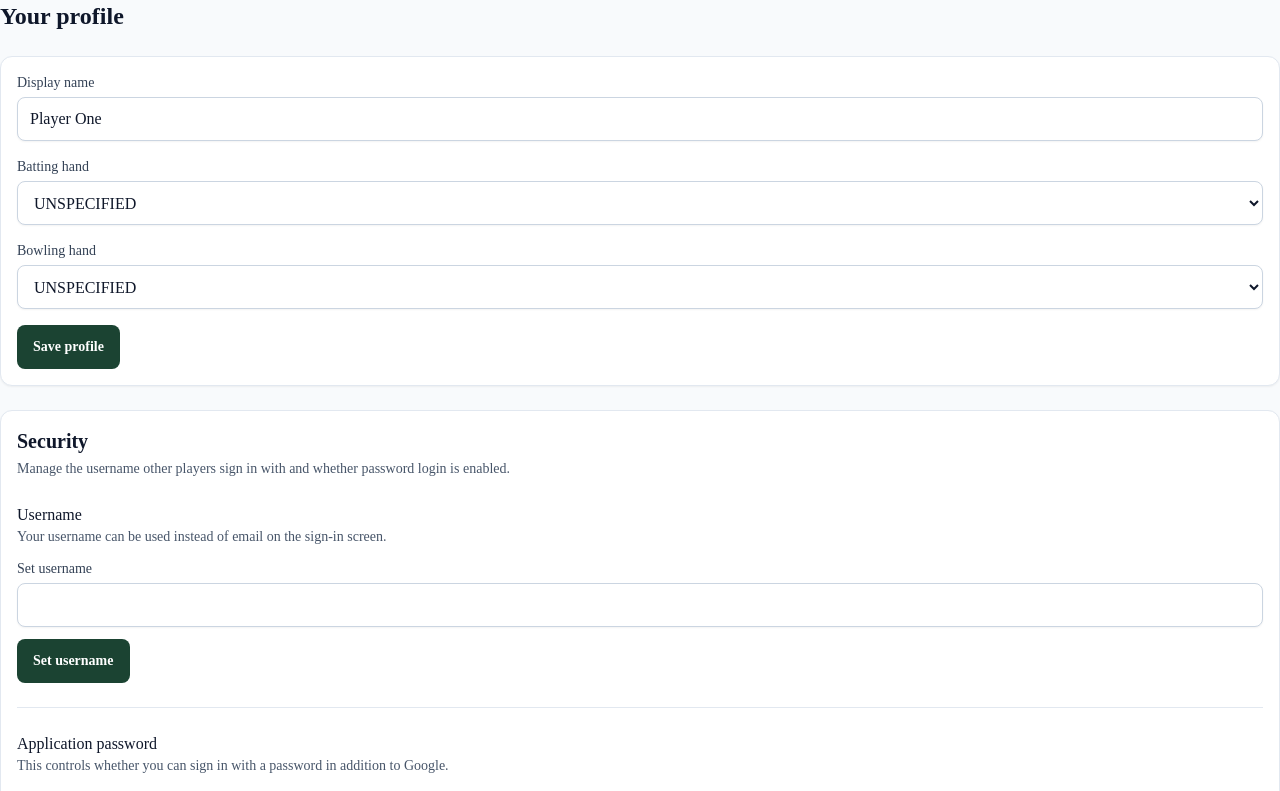
AppProfilePage › shows a server error when the profile update fails
Check: the field showing "Player One" is shown, box [17,97,1263,141]
Click the button "Save profile".
click(68, 347)  # box [17,325,120,369]
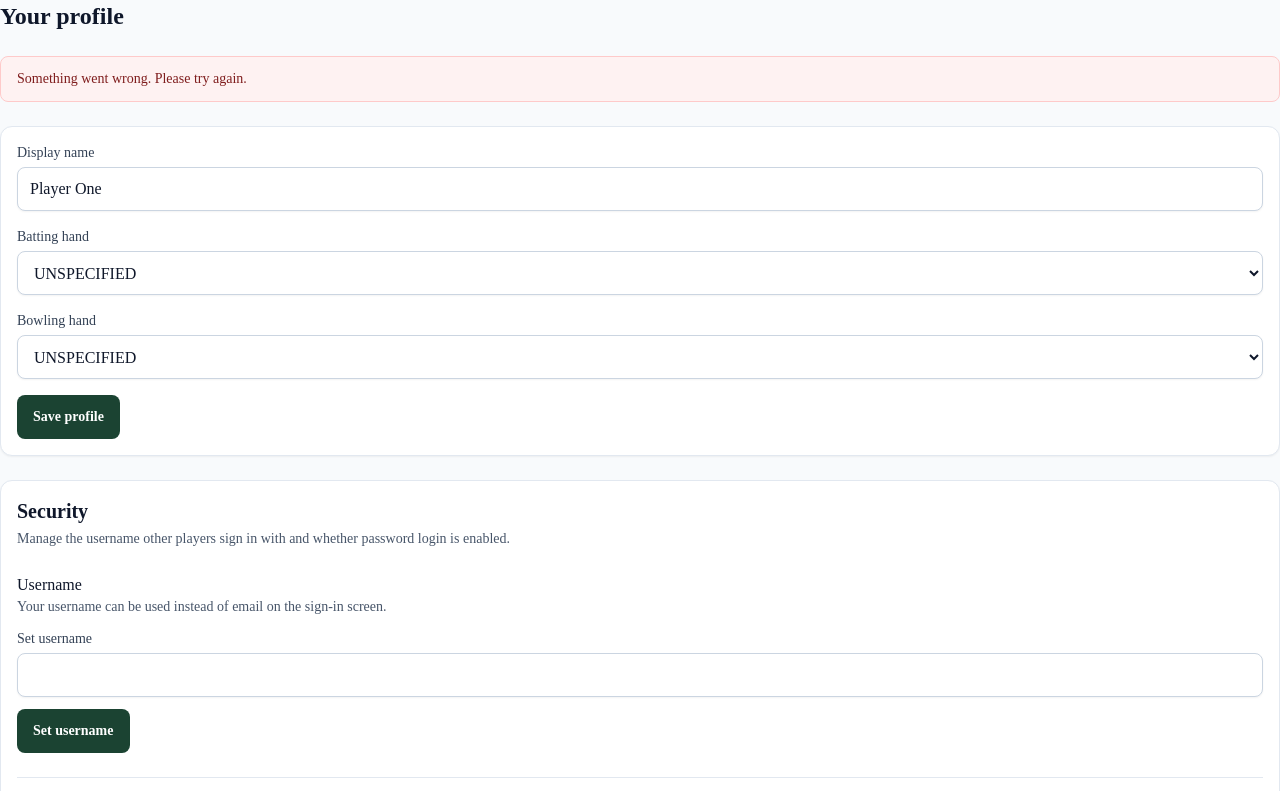
Check: the text "Something went wrong. Please try again." is shown, box [17,71,247,86]
